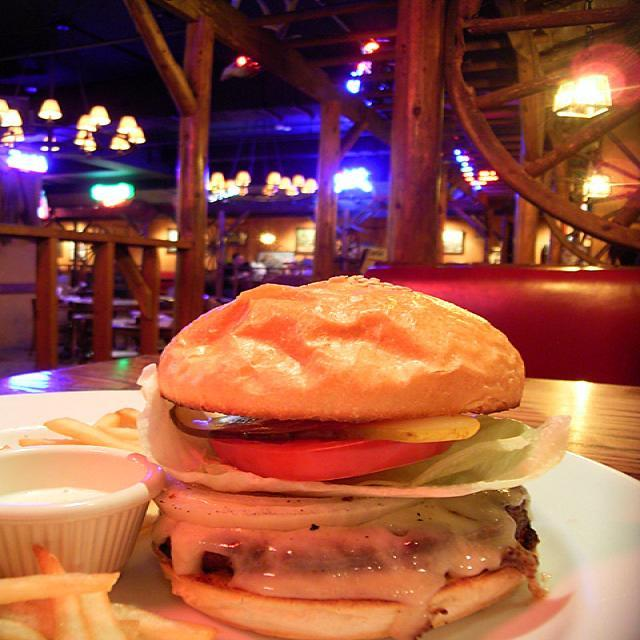Hamburger: (131, 251, 564, 640)
